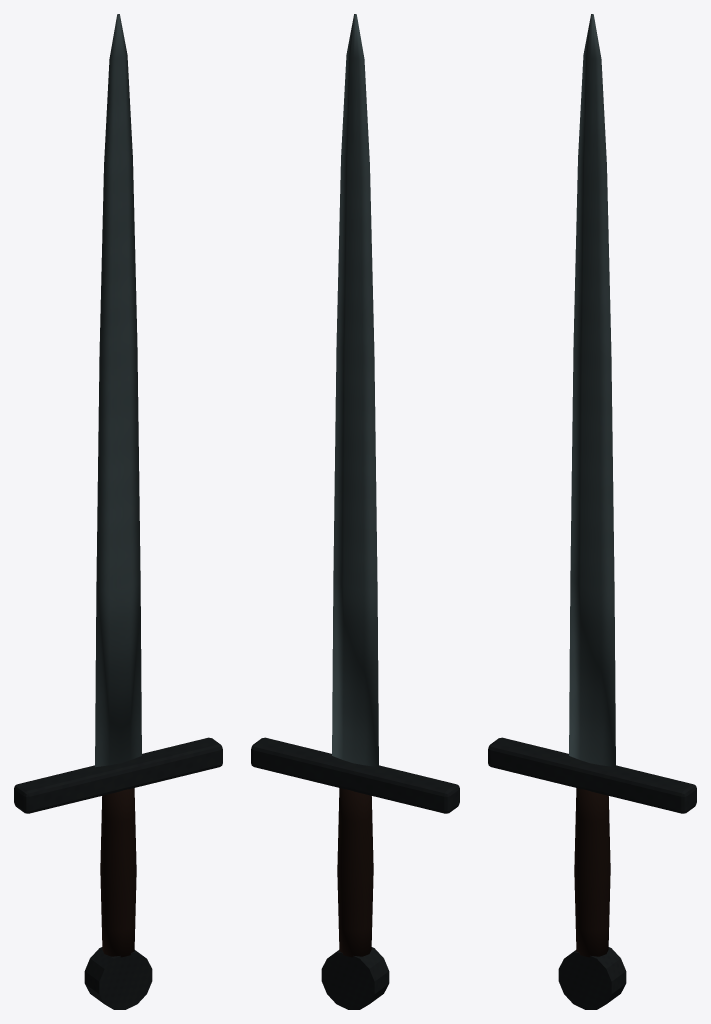
Rendered from arming_sword.glb.
3 renders of one model, left to right at view 1: azimuth 30°, elevation 25°; view 2: azimuth 150°, elevation 25°; view 3: azimuth 330°, elevation 25°, orthographic.
Visible parts, largest first — view 1: Blade, Crossguard, LeatherGrip, WheelPommel; view 2: Blade, Crossguard, LeatherGrip, WheelPommel; view 3: Blade, Crossguard, LeatherGrip, WheelPommel.
Part boxes in pixels (left/top/right/bottom): Blade: left=95, top=14, right=141, bottom=767; Crossguard: left=14, top=737, right=222, bottom=813; LeatherGrip: left=100, top=788, right=136, bottom=957; WheelPommel: left=84, top=947, right=152, bottom=1009; Blade: left=332, top=14, right=378, bottom=767; Crossguard: left=251, top=737, right=459, bottom=813; LeatherGrip: left=337, top=788, right=373, bottom=957; WheelPommel: left=321, top=947, right=389, bottom=1009; Blade: left=569, top=14, right=615, bottom=767; Crossguard: left=488, top=737, right=696, bottom=813; LeatherGrip: left=574, top=788, right=610, bottom=957; WheelPommel: left=558, top=947, right=626, bottom=1009.
Bounding box in the file's own units: 0.22 × 1.05 × 0.0333.
Materials: 3 (3 with a texture image).
